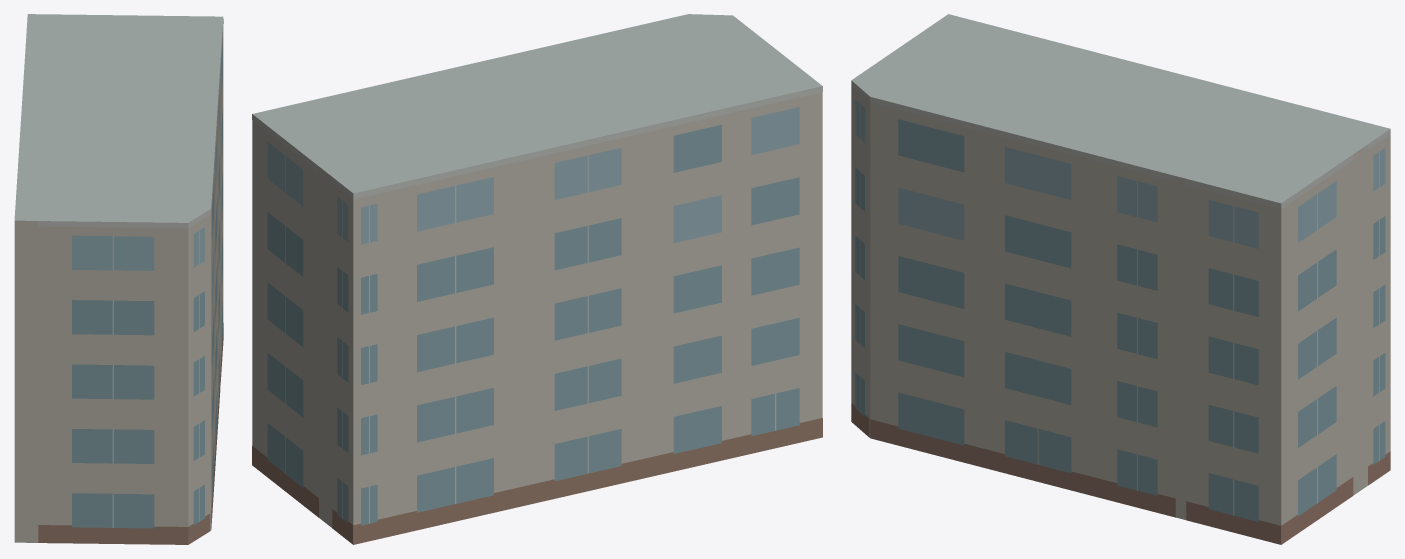
File: survey-upis-32984305.glb
3 renders of one model, left to right at view 1: azimuth 30°, elevation 25°; view 2: azimuth 150°, elevation 25°; view 3: azimuth 270°, elevation 25°, orthographic. The views are drawn at different scales.
Parts seen in each view (by area): view 1: survey-upis-32984305.tmp; view 2: survey-upis-32984305.tmp; view 3: survey-upis-32984305.tmp.
Boxes of the visible parts, x1,y1,x2,y2 form: survey-upis-32984305.tmp: (14, 14, 223, 544); survey-upis-32984305.tmp: (252, 14, 822, 544); survey-upis-32984305.tmp: (851, 14, 1390, 544).
Bounding box in the file's own units: 17.13 × 14.4 × 20.61.
